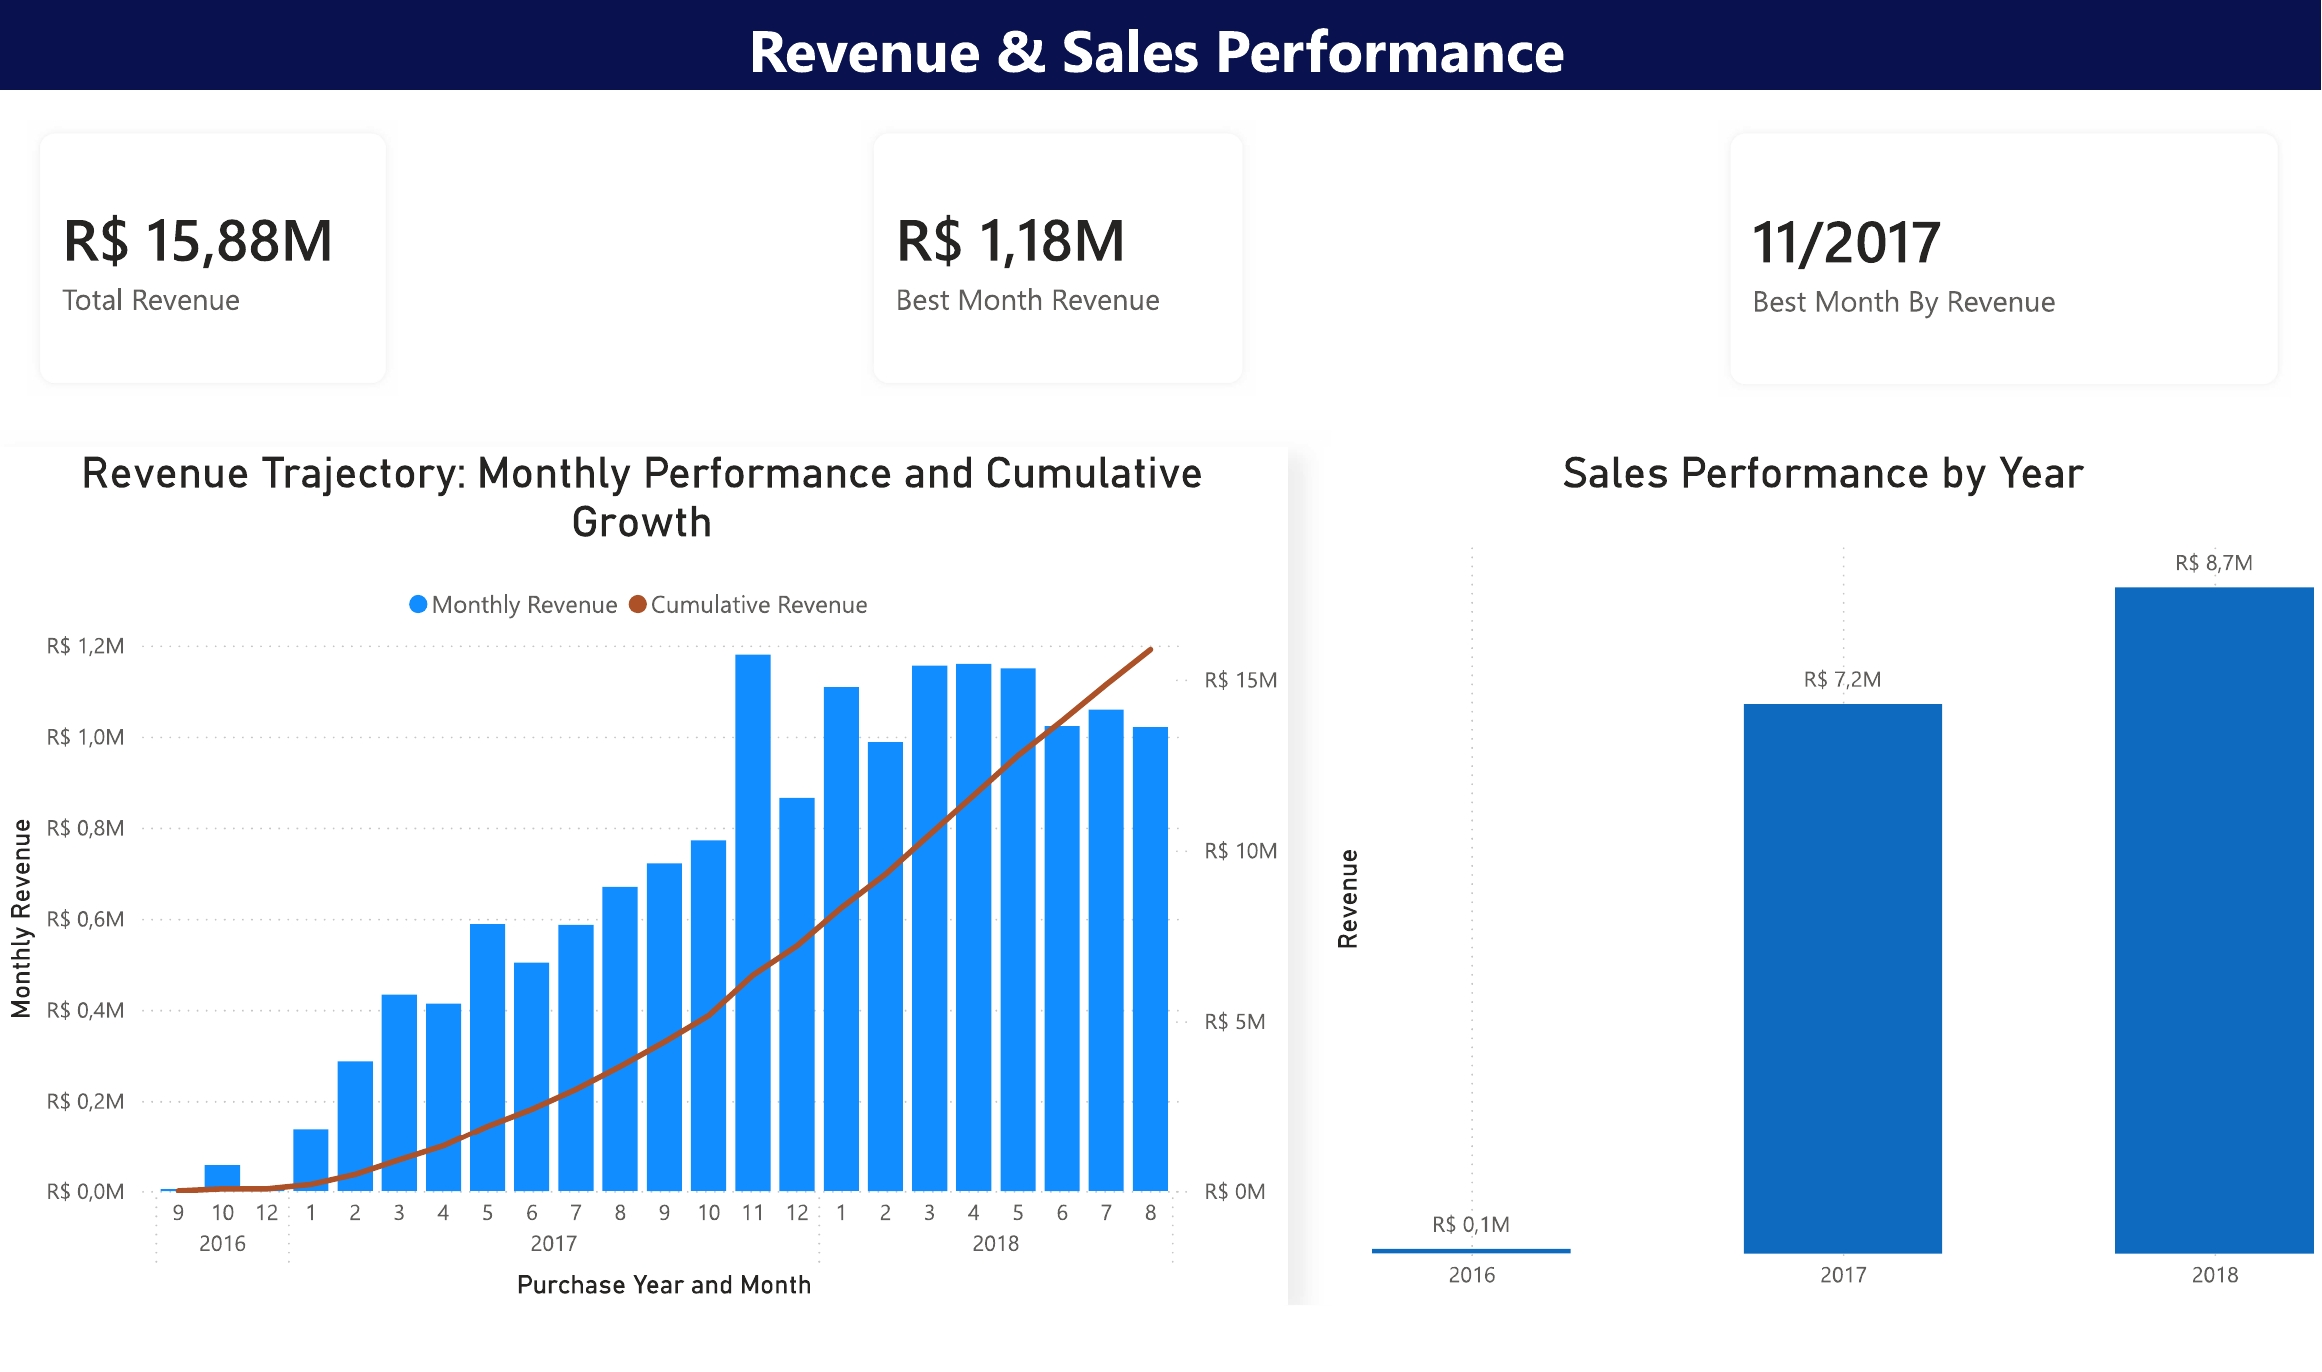

Layout of this report page (visuals, bound fields, positions):
{"tool":"powerbi","page":{"name":"Page 1","canvas":[1280,720],"ordinal":0},"visuals":[{"type":"lineClusteredColumnComboChart","title":"Revenue Trajectory: Monthly Performance and Cumulative Growth","fields":{"Category":["35fe72f0-6e7e-43e8-9c9c-c8722766acb0.purchase_year","35fe72f0-6e7e-43e8-9c9c-c8722766acb0.purchase_month"],"Y":["Sum(35fe72f0-6e7e-43e8-9c9c-c8722766acb0.monthly_revenue)"],"Y2":["Sum(35fe72f0-6e7e-43e8-9c9c-c8722766acb0.running_total)"]},"box":[0,247.3,710.8,474.7],"z":0},{"type":"cardVisual","fields":{"Data":["35fe72f0-6e7e-43e8-9c9c-c8722766acb0.Total Revenue"]},"box":[0,49.8,237.8,185.6],"z":1000},{"type":"cardVisual","fields":{"Data":["35fe72f0-6e7e-43e8-9c9c-c8722766acb0.Best Month Revenue"]},"box":[458.7,49.8,251.1,185.6],"z":2000},{"type":"cardVisual","fields":{"Data":["35fe72f0-6e7e-43e8-9c9c-c8722766acb0.Best Month"]},"box":[930.8,49.6,349,186],"z":3000},{"type":"shape","box":[0,0,1280,49.7],"z":4000},{"type":"textbox","box":[408.9,0,462.3,57.2],"z":5000},{"type":"clusteredColumnChart","title":"Sales Performance by Year","fields":{"Category":["35fe72f0-6e7e-43e8-9c9c-c8722766acb0.purchase_year"],"Y":["Sum(35fe72f0-6e7e-43e8-9c9c-c8722766acb0.monthly_revenue)"]},"box":[730.9,247.3,550.2,473.7],"z":6000}]}

Visuals, with their boxes on the page's 1280x720 design canvas (x1, y1, x2, y2). These are canvas units, not pixel positions in the 2322x1372 screenshot, which may show the page scaled, cropped or inside an application window:
"Revenue Trajectory: Monthly Performance and Cumulative Growth" lineClusteredColumnComboChart: x1=0, y1=247, x2=711, y2=722
cardVisual - 35fe72f0-6e7e-43e8-9c9c-c8722766acb0.Total Revenue: x1=0, y1=50, x2=238, y2=235
cardVisual - 35fe72f0-6e7e-43e8-9c9c-c8722766acb0.Best Month Revenue: x1=459, y1=50, x2=710, y2=235
cardVisual - 35fe72f0-6e7e-43e8-9c9c-c8722766acb0.Best Month: x1=931, y1=50, x2=1280, y2=236
shape: x1=0, y1=0, x2=1280, y2=50
textbox: x1=409, y1=0, x2=871, y2=57
"Sales Performance by Year" clusteredColumnChart: x1=731, y1=247, x2=1281, y2=721
